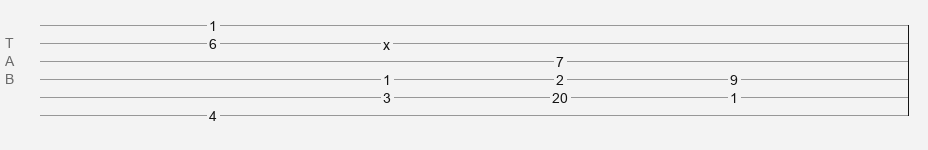1: (209, 18, 217, 28), (383, 72, 391, 82), (730, 90, 738, 100)
2: (556, 72, 564, 82)
20: (552, 90, 568, 100)
3: (383, 90, 391, 100)
4: (209, 108, 217, 118)
6: (209, 36, 217, 46)
7: (556, 54, 564, 64)
9: (730, 72, 738, 82)
x: (383, 37, 390, 45)
